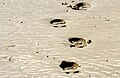human_foot_print: (63, 37, 91, 47), (59, 61, 80, 73), (68, 37, 91, 47), (50, 19, 65, 27)
